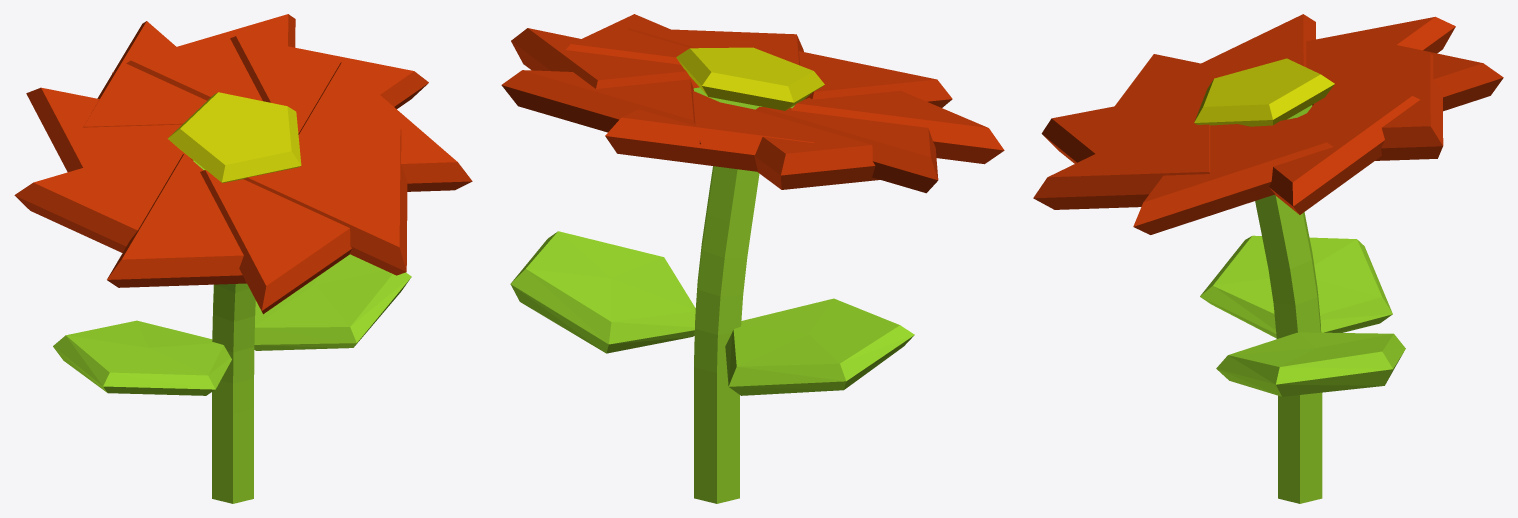
Rendered from flower.fbx.
3 renders of one model, left to right at view 1: azimuth 30°, elevation 25°; view 2: azimuth 150°, elevation 25°; view 3: azimuth 270°, elevation 25°, orthographic. The views are drawn at different scales.
Visible parts, largest first — view 1: Cylinder_8, Cylinder_6, Cylinder_7, leaf, Cylinder_5, leaf_1, Cylinder_9, stalk, bud, Cylinder_2, Cylinder_10, Cylinder_3 (+1 smaller); view 2: leaf_1, stalk, leaf, Cylinder_3, Cylinder_10, Cylinder_4, bud, Cylinder_6, Cylinder_5, Cylinder_2, Cylinder_7, Cylinder_9 (+1 smaller); view 3: stalk, leaf, Cylinder_8, Cylinder_9, leaf_1, Cylinder_2, bud, Cylinder_10, Cylinder_3, Cylinder_7, Cylinder_4, Cylinder_5 (+1 smaller).
Part boxes in pixels (left/top/right/bottom): Cylinder_8: left=243, top=129, right=407, bottom=275; Cylinder_6: left=107, top=153, right=246, bottom=287; Cylinder_7: left=200, top=170, right=351, bottom=314; leaf: left=53, top=320, right=231, bottom=395; Cylinder_5: left=14, top=142, right=193, bottom=252; leaf_1: left=254, top=254, right=411, bottom=350; Cylinder_9: left=298, top=62, right=472, bottom=191; stalk: left=212, top=283, right=255, bottom=503; bud: left=167, top=92, right=301, bottom=183; Cylinder_2: left=230, top=36, right=428, bottom=133; Cylinder_10: left=112, top=14, right=295, bottom=100; Cylinder_3: left=83, top=21, right=206, bottom=127; leaf_1: left=510, top=231, right=695, bottom=353; stalk: left=694, top=166, right=759, bottom=503; leaf: left=725, top=298, right=914, bottom=395; Cylinder_3: left=605, top=91, right=813, bottom=171; Cylinder_10: left=501, top=70, right=701, bottom=144; Cylinder_4: left=721, top=102, right=879, bottom=189; bud: left=676, top=47, right=824, bottom=110; Cylinder_6: left=791, top=90, right=1004, bottom=164; Cylinder_5: left=754, top=107, right=938, bottom=193; Cylinder_2: left=511, top=28, right=699, bottom=88; Cylinder_7: left=799, top=51, right=952, bottom=107; Cylinder_9: left=566, top=14, right=689, bottom=64; stalk: left=1255, top=194, right=1322, bottom=503; leaf: left=1200, top=235, right=1392, bottom=338; Cylinder_8: left=1033, top=102, right=1210, bottom=209; Cylinder_9: left=1133, top=124, right=1332, bottom=234; leaf_1: left=1216, top=332, right=1405, bottom=396; Cylinder_2: left=1251, top=96, right=1420, bottom=214; bud: left=1194, top=58, right=1334, bottom=126; Cylinder_10: left=1298, top=53, right=1443, bottom=160; Cylinder_3: left=1307, top=38, right=1503, bottom=112; Cylinder_7: left=1041, top=89, right=1206, bottom=163; Cylinder_4: left=1306, top=16, right=1455, bottom=105; Cylinder_5: left=1201, top=14, right=1315, bottom=71.
Size of the model in its own units: 192 by 186 by 184.
